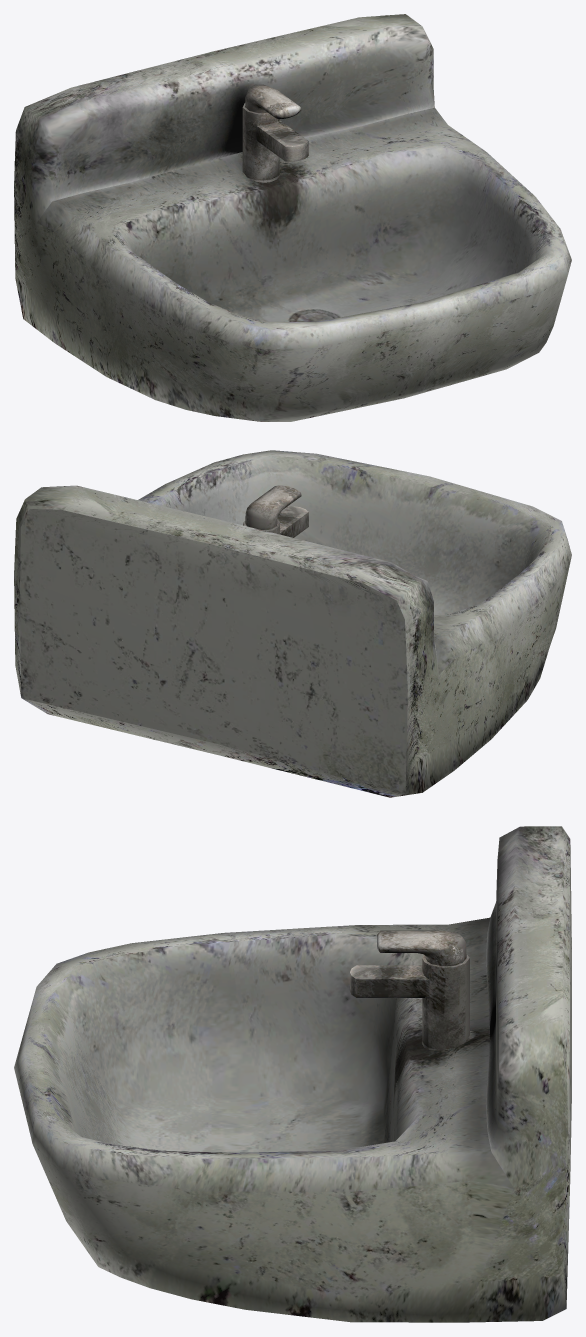
Rendered from sink03.FBX.
3 views of the same model, one above another, from view 1: azimuth 30°, elevation 25°; view 2: azimuth 150°, elevation 25°; view 3: azimuth 270°, elevation 25° (orthographic). The views are drawn at different scales.
Parts seen in each view (by area): view 1: SM_Sink03; view 2: SM_Sink03; view 3: SM_Sink03.
Part boxes in pixels (<box>): SM_Sink03: <box>14,14,571,421</box>; SM_Sink03: <box>14,450,571,797</box>; SM_Sink03: <box>14,826,571,1322</box>.
Size of the model in its own units: 53.04 by 28.58 by 50.69.
1 material, 1 textured.
